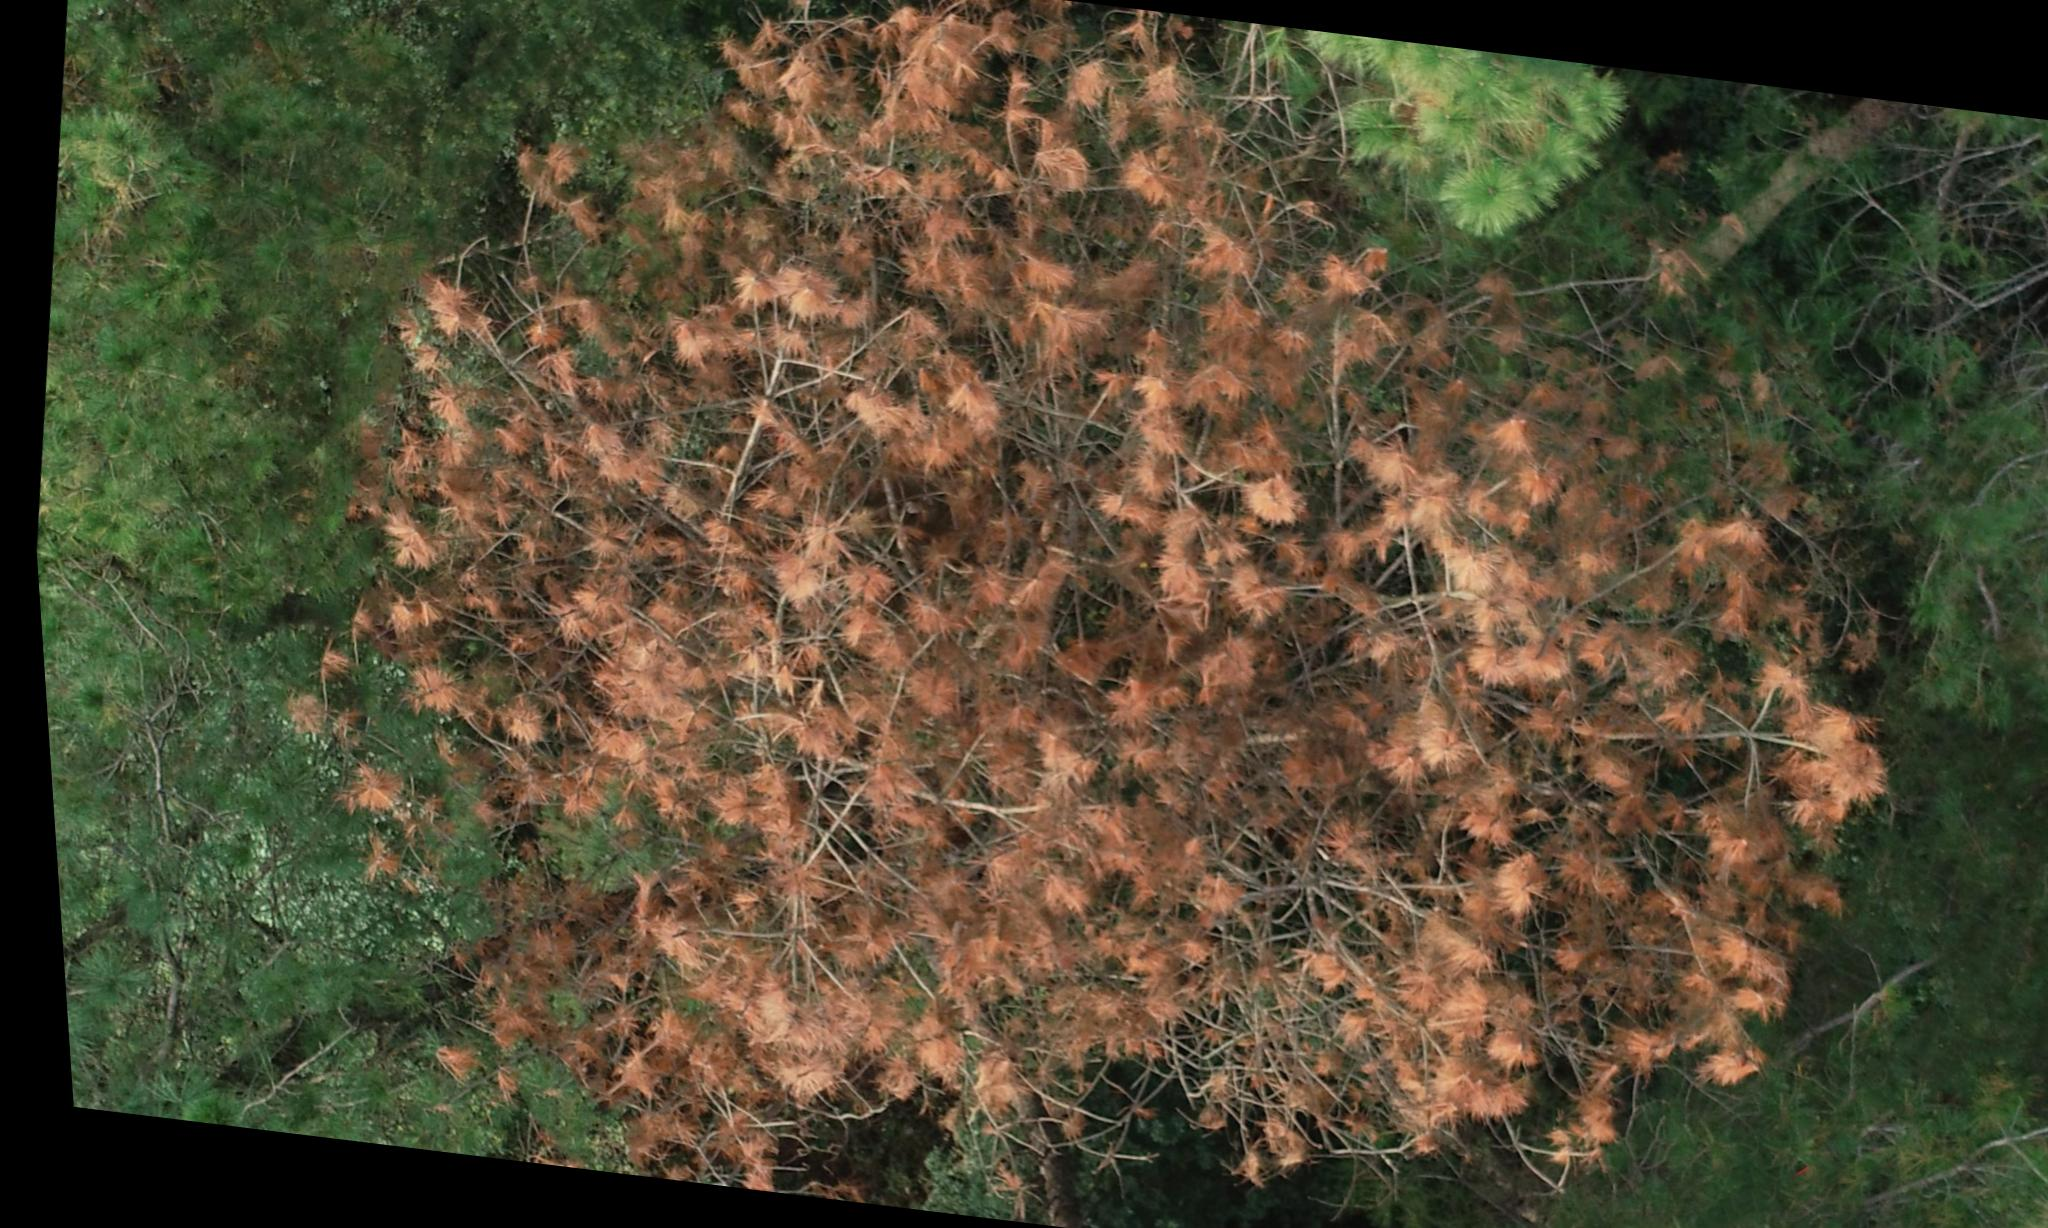heavy: (265, 0, 2017, 1228)
